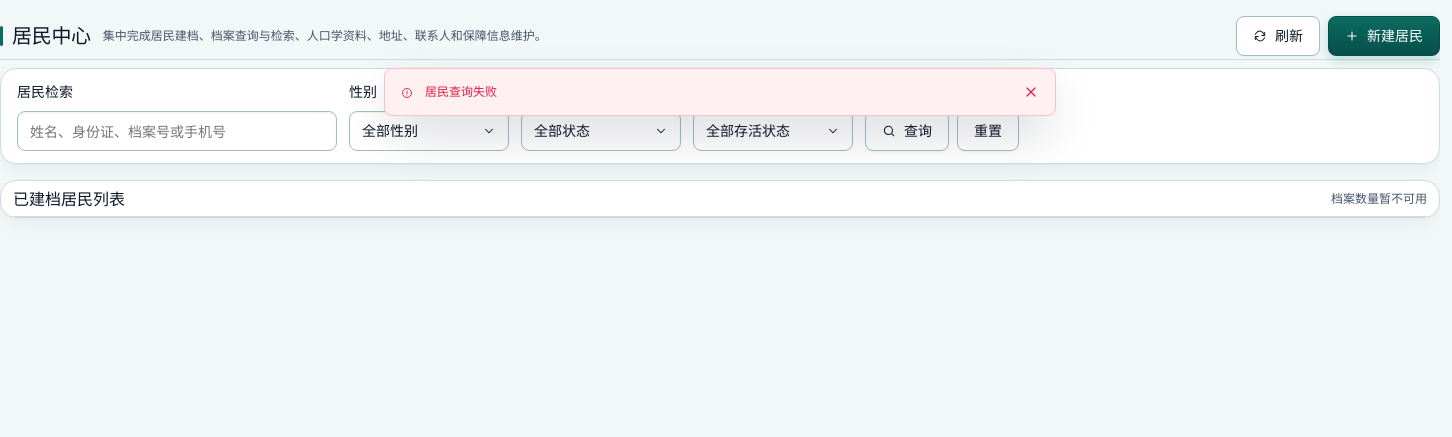
Scenario: ResidentCenterWorkspace › reports unavailable counts on list failures and recovers through refresh
The image size is (1452, 437).
Check: the text "居民查询失败" is shown, box [425,84,497,99]
Check: the text "档案数量暂不可用" is shown, box [1331,190,1427,208]
Click the button "刷新" at (1278, 36), box [1236,16,1320,56]
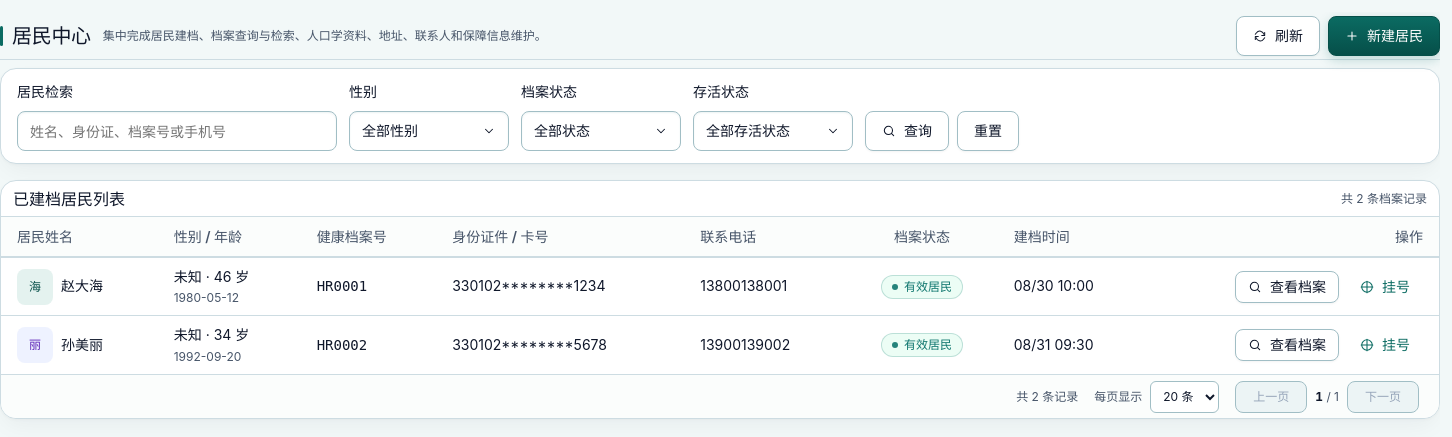
Check: the text "共 2 条档案记录" is shown, box [1341,190,1427,208]
